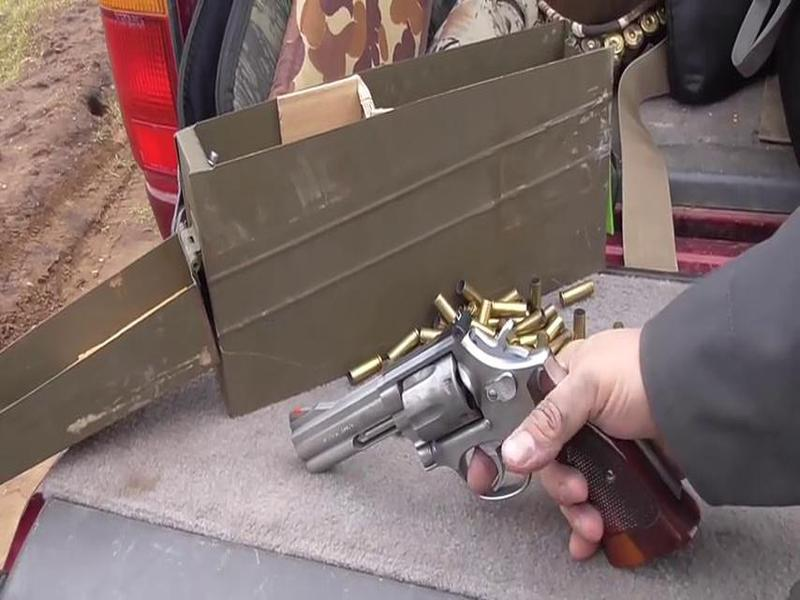Revolver: (270, 288, 668, 558)
